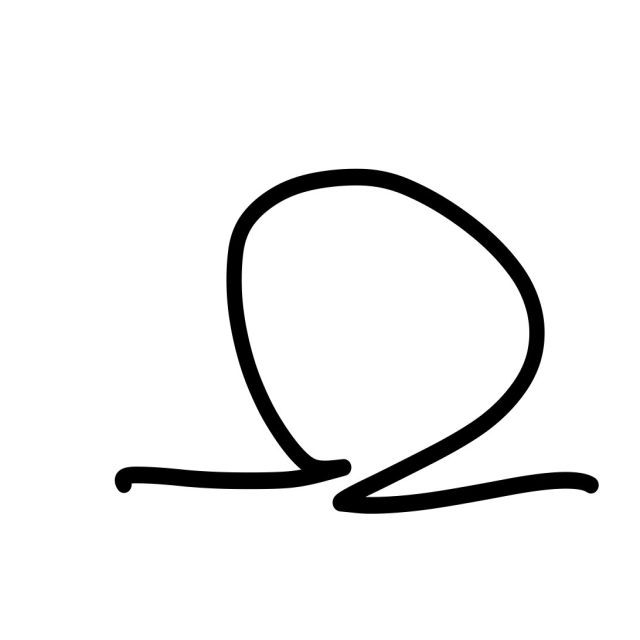ohms: (113, 95, 617, 581)
